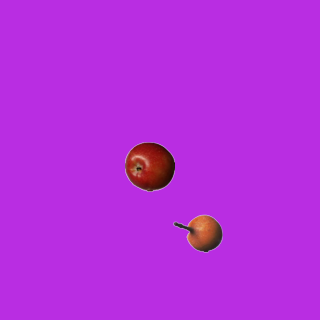Apple Braeburn: (124, 141, 174, 191)
Granadilla: (172, 208, 222, 258)
